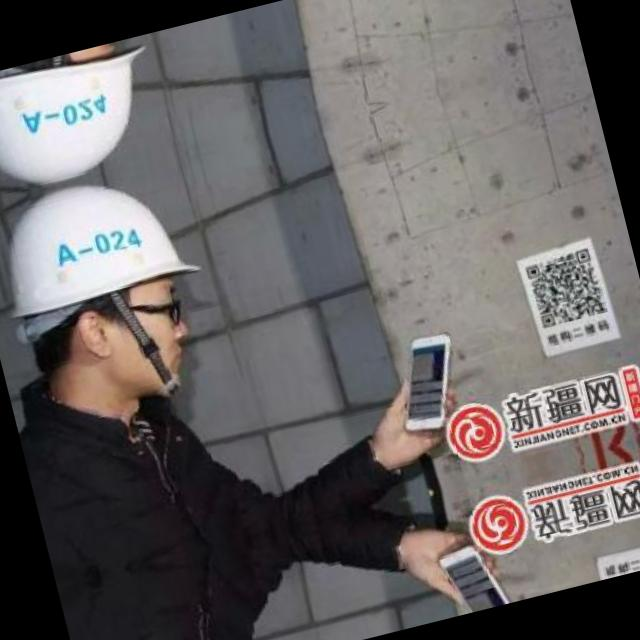helmet: (0, 152, 240, 448), (0, 32, 180, 207)
